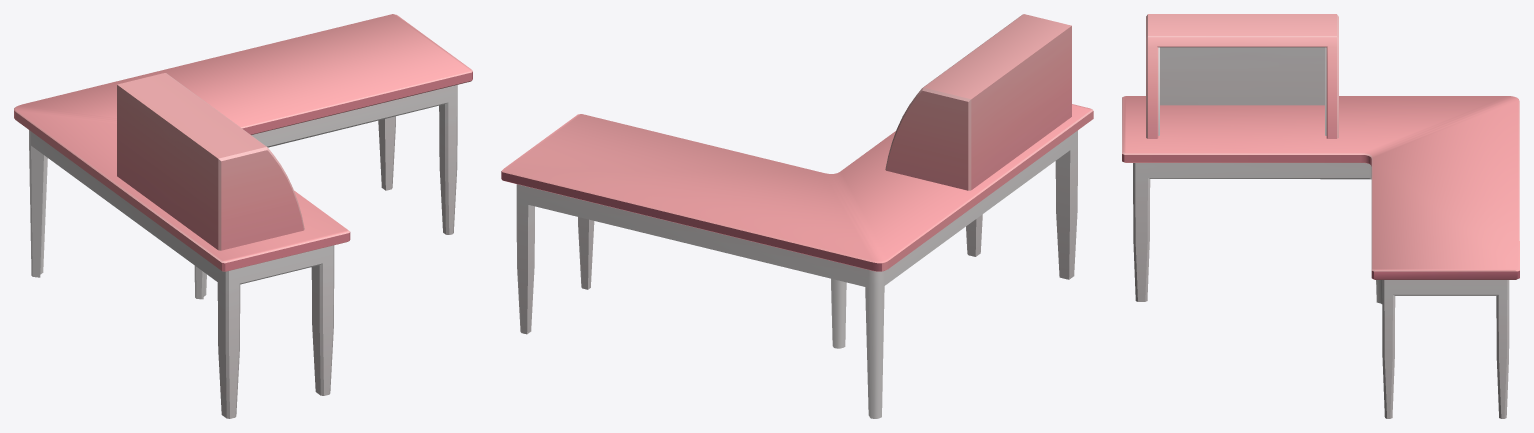
The model's file is Doll_OB_Desk_001.fbx.
3 views of the same model, side by side, from view 1: azimuth 30°, elevation 25°; view 2: azimuth 150°, elevation 25°; view 3: azimuth 270°, elevation 25° (orthographic). The views are drawn at different scales.
Parts seen in each view (by area): view 1: Doll_OB_Desk_001; view 2: Doll_OB_Desk_001; view 3: Doll_OB_Desk_001.
Part boxes in pixels (box(x1,y1,x2,y2)): Doll_OB_Desk_001: box(14, 14, 472, 418); Doll_OB_Desk_001: box(501, 14, 1093, 418); Doll_OB_Desk_001: box(1122, 14, 1519, 418).
Bounding box in the file's own units: 183 × 116 × 175.
1 material, 1 textured.
